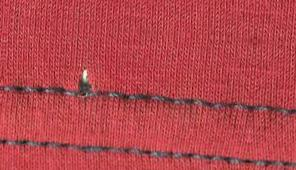hole: (77, 66, 95, 82)
